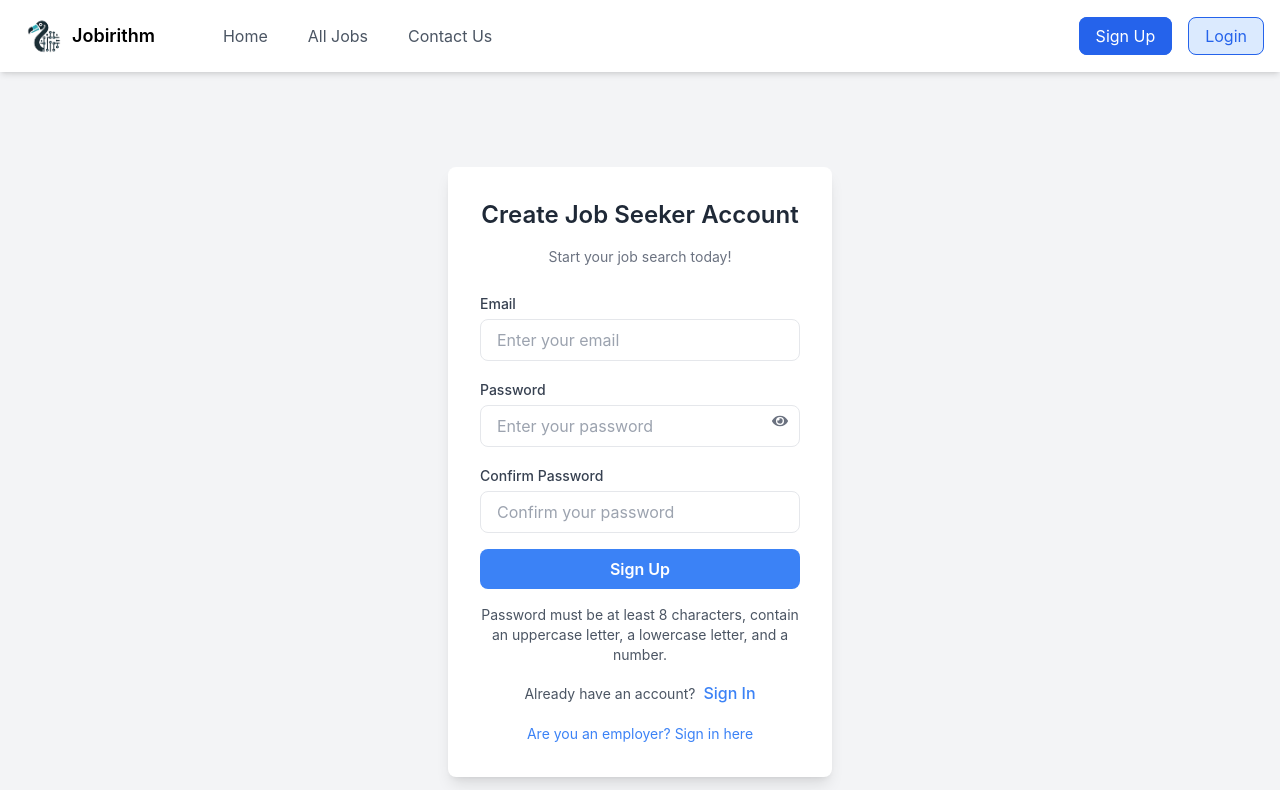
Test case: AuthForm Component Tests › should show error for weak password
This screenshot has width=1280, height=790.
Type "test@example.com" into the field with placeholder "Enter your email" at x=640, y=340, box x1=480 y1=319 x2=800 y2=361
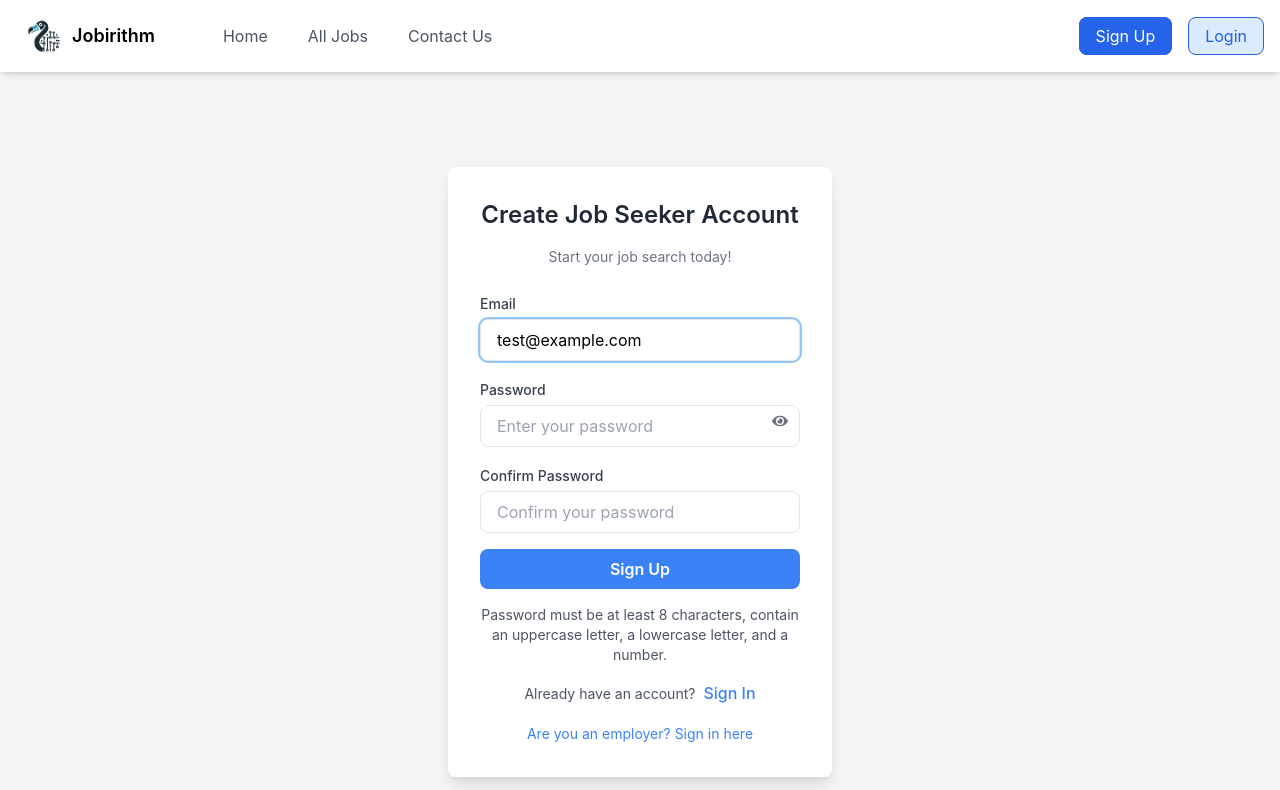
Type "weak" into the password field with placeholder "Enter your password" at x=640, y=426, box x1=480 y1=405 x2=800 y2=447
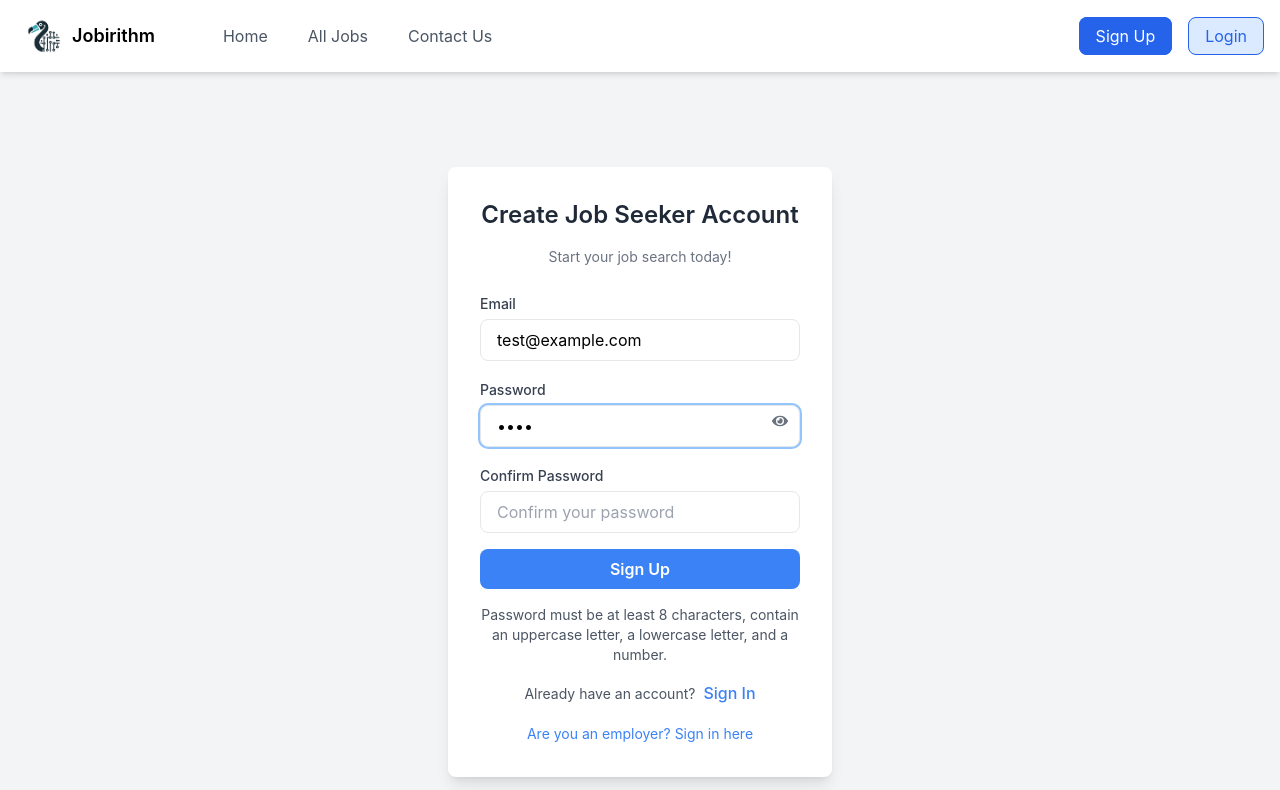
Type "weak" into the password field with placeholder "Confirm your password" at x=640, y=512, box x1=480 y1=491 x2=800 y2=533
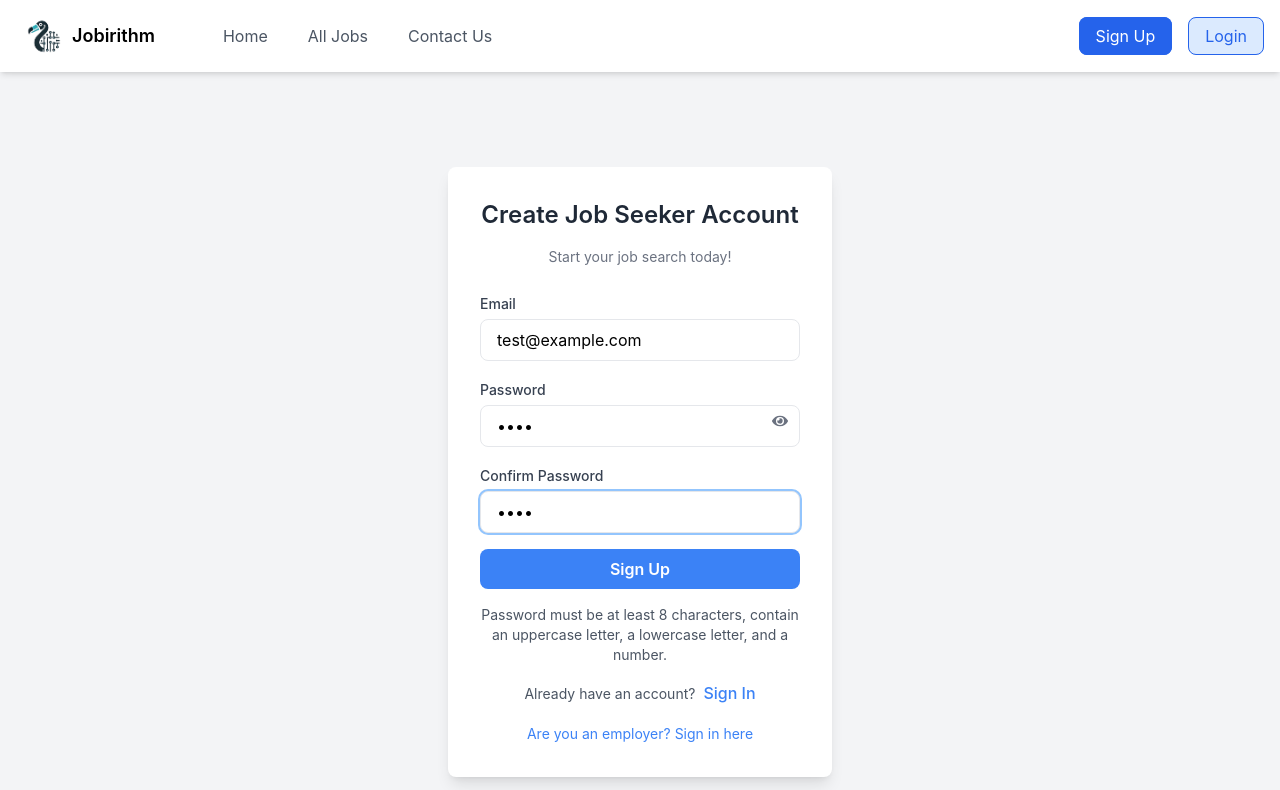
Click the submit button at x=640, y=569, box x1=480 y1=549 x2=800 y2=589
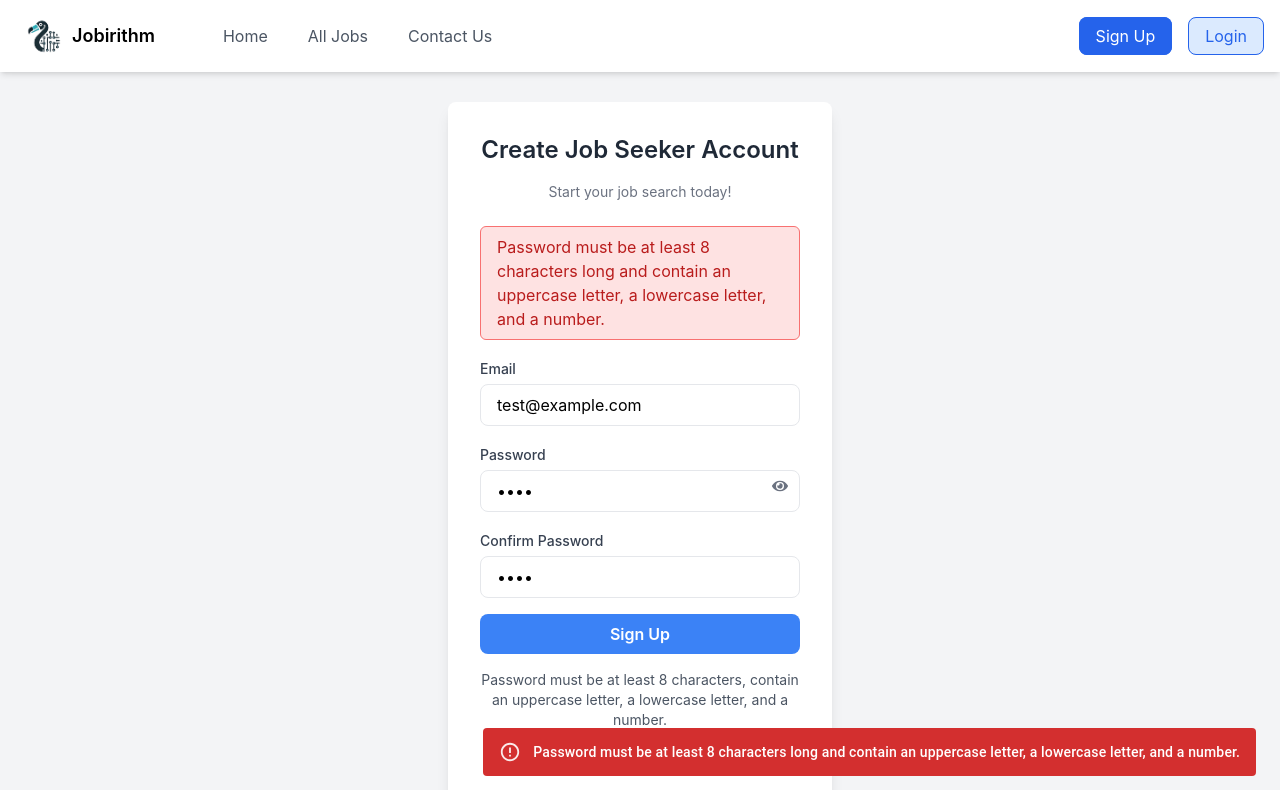
Now the text "Password must be at least 8 characters long and contain an uppercase letter, a lowercase letter, and a number." below "Start your job search today!" is shown, box x1=497 y1=237 x2=766 y2=329
